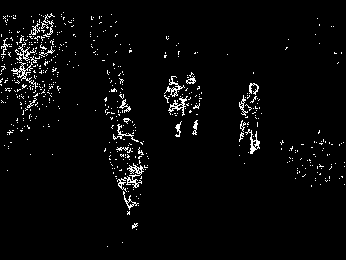person: (107, 117, 150, 231), (238, 85, 261, 152), (183, 72, 203, 137), (165, 75, 182, 139)
